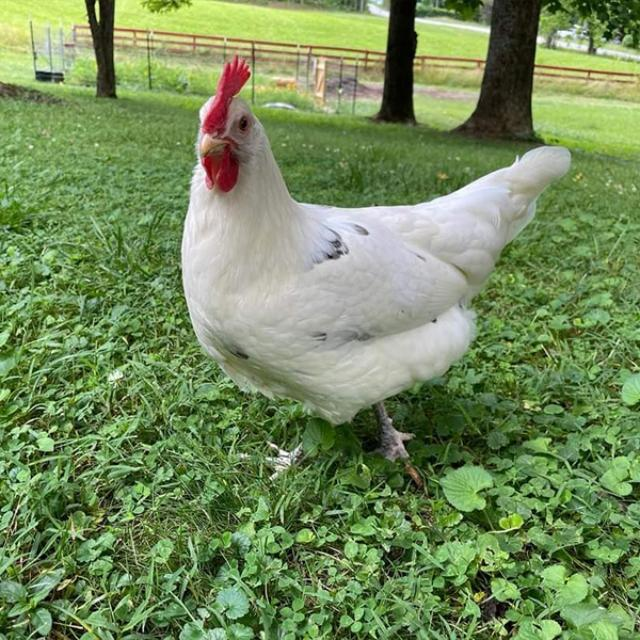Chicken: (181, 52, 573, 481)
